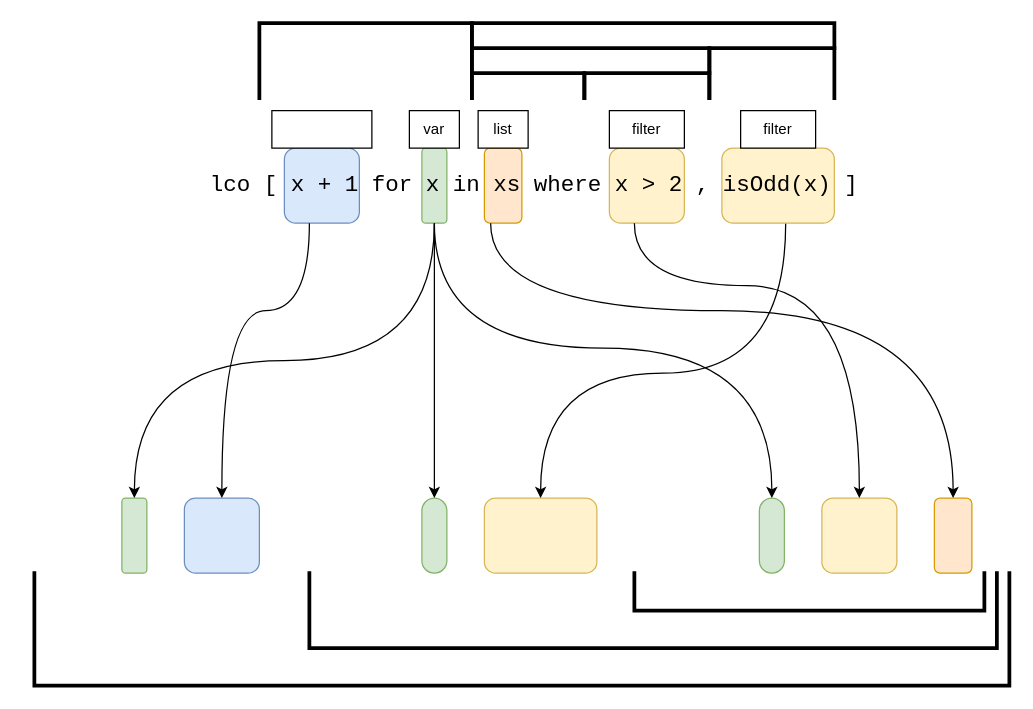
This 1033x709 diagram has some shape labels left out. Each missing label, with the centre of its shape:
expression: point 321,128
map(fn (x) { x + 1 }, filter(fn (x) { isOdd(x) }, filter(fn (x) { x > 2 }, xs))): point 540,535
